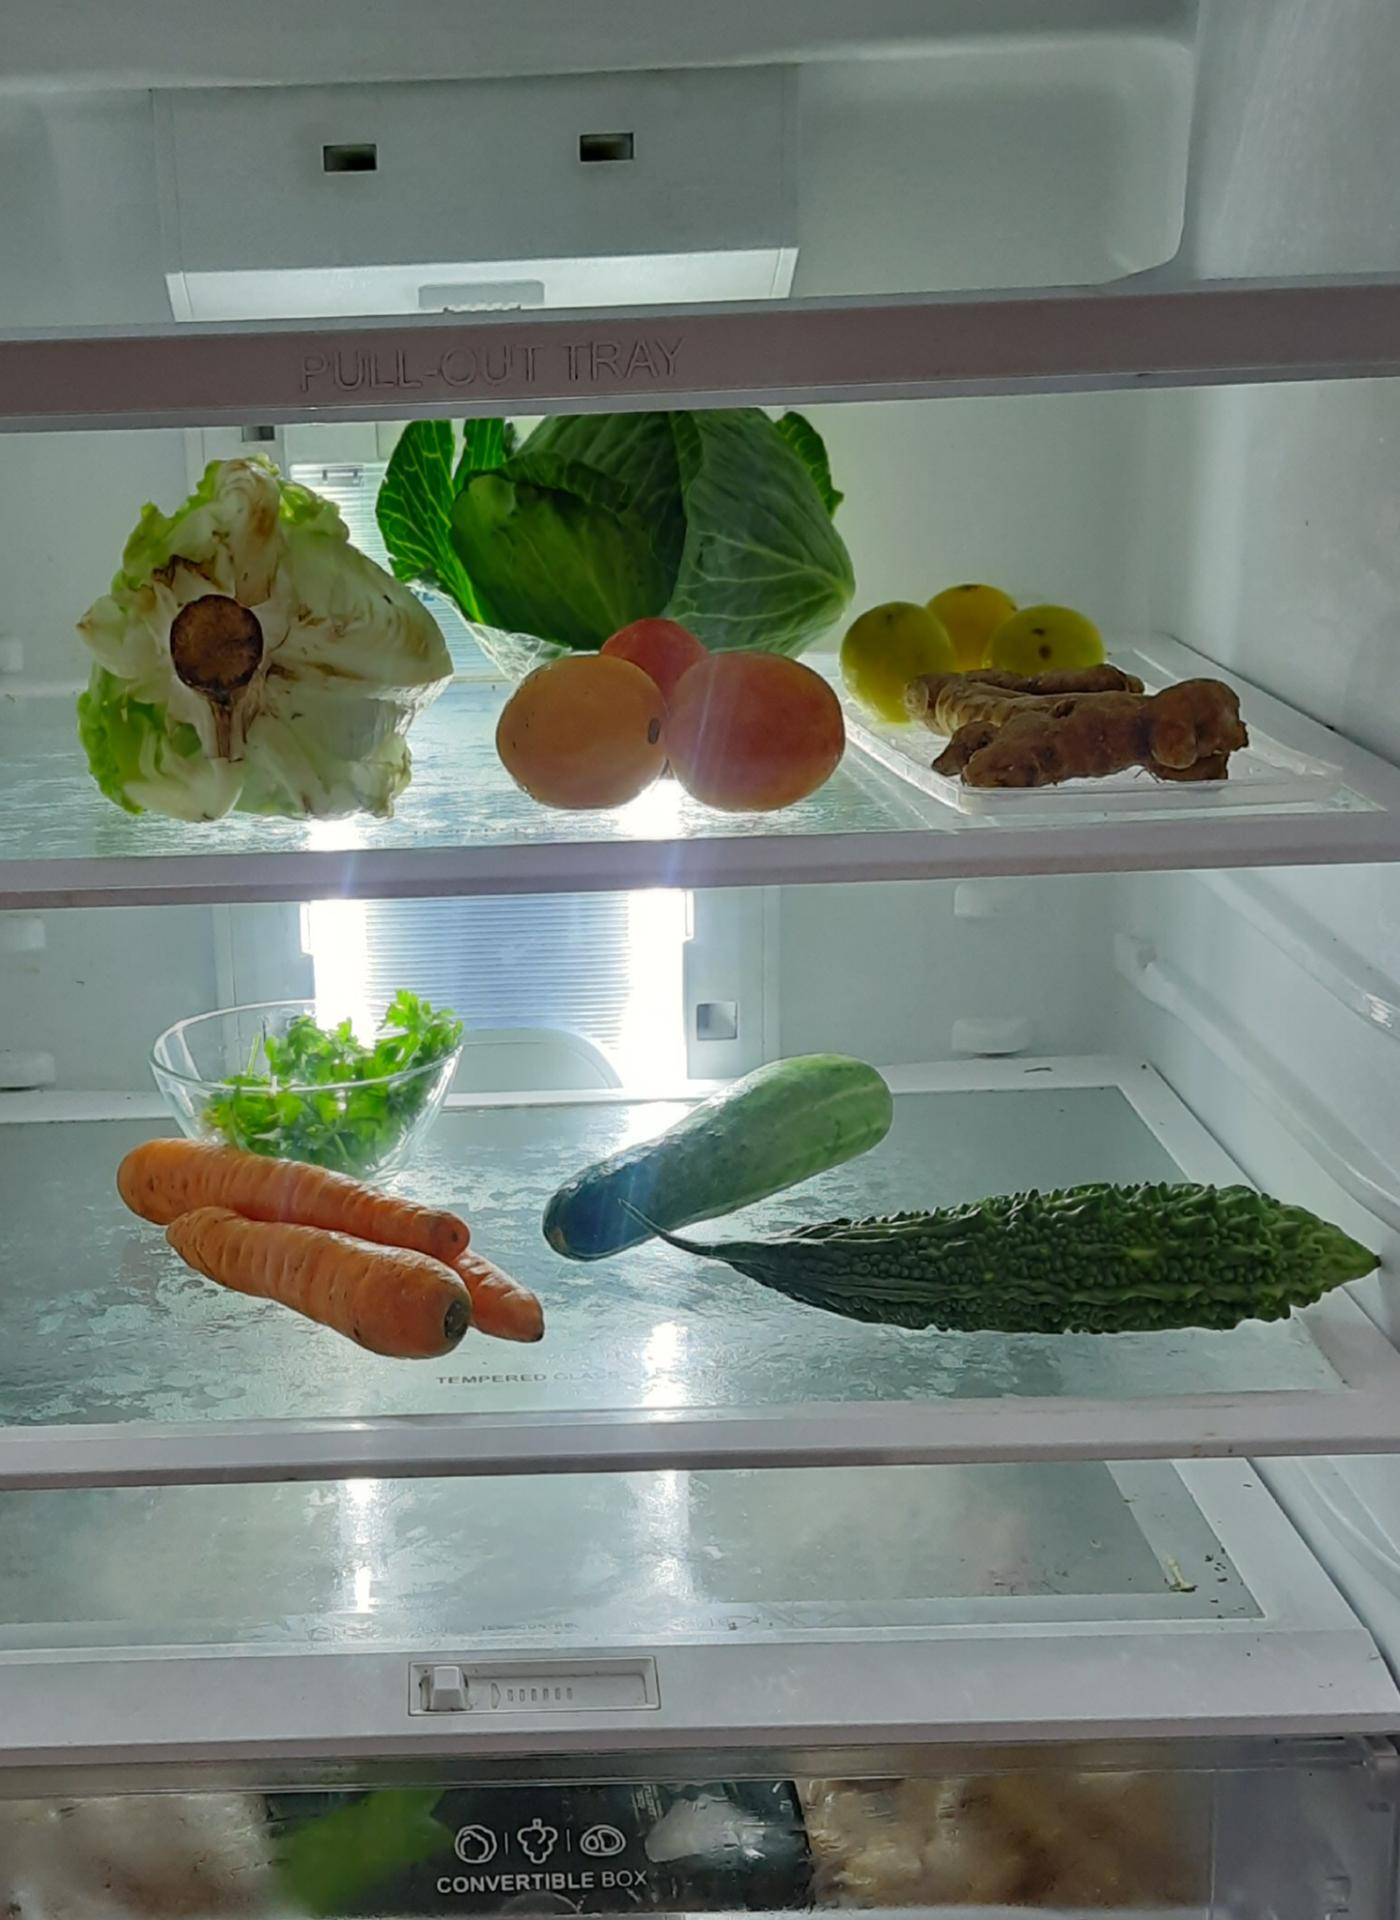bitter gourd: (762, 1163, 1382, 1343)
cabbage: (383, 400, 851, 695)
carrots: (116, 1136, 559, 1373)
coriander: (231, 994, 458, 1128)
cucumber: (537, 1046, 909, 1261)
ginger: (889, 675, 1269, 799)
lemon: (856, 584, 1108, 678)
lettuce: (98, 458, 453, 827)
tomato: (491, 605, 862, 806)
